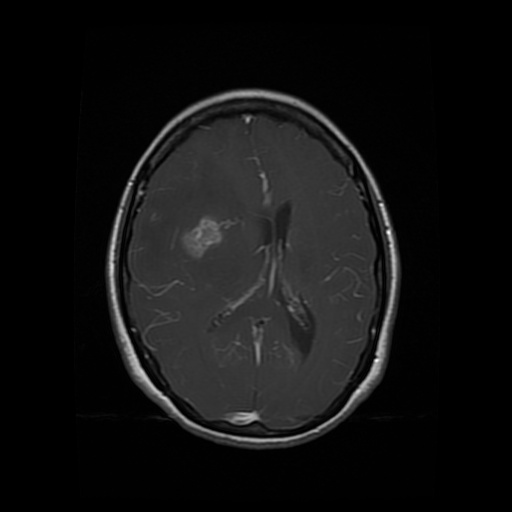glioma: (180, 214, 224, 258)
